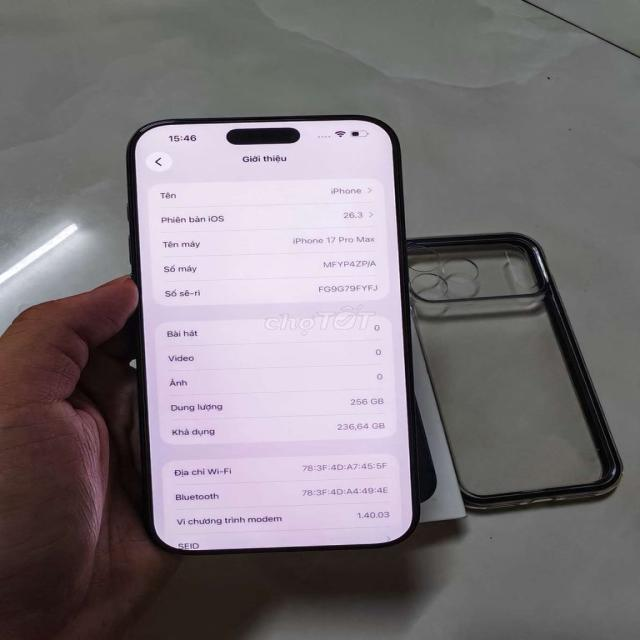gen_17: (125, 113, 435, 563)
